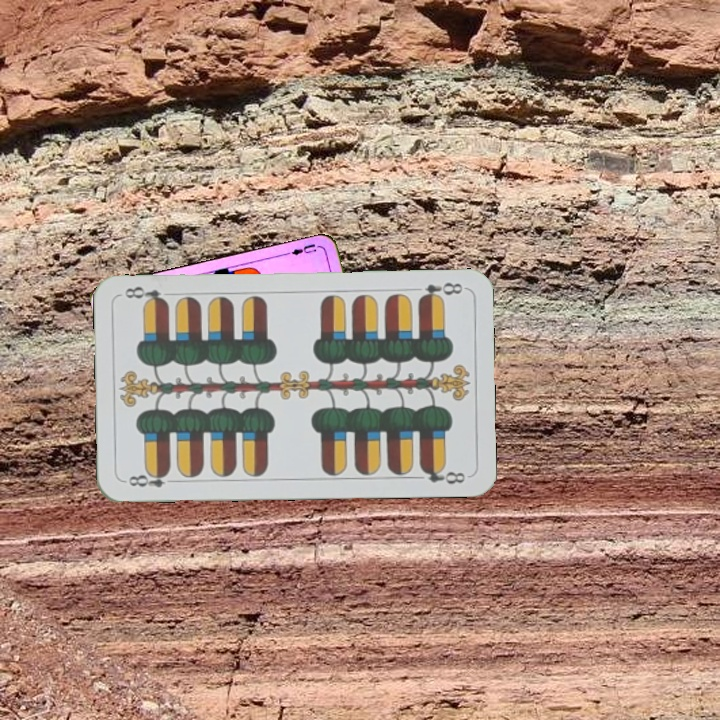E8: (124, 467, 180, 490), (414, 278, 465, 303)
EU: (288, 239, 319, 258)
